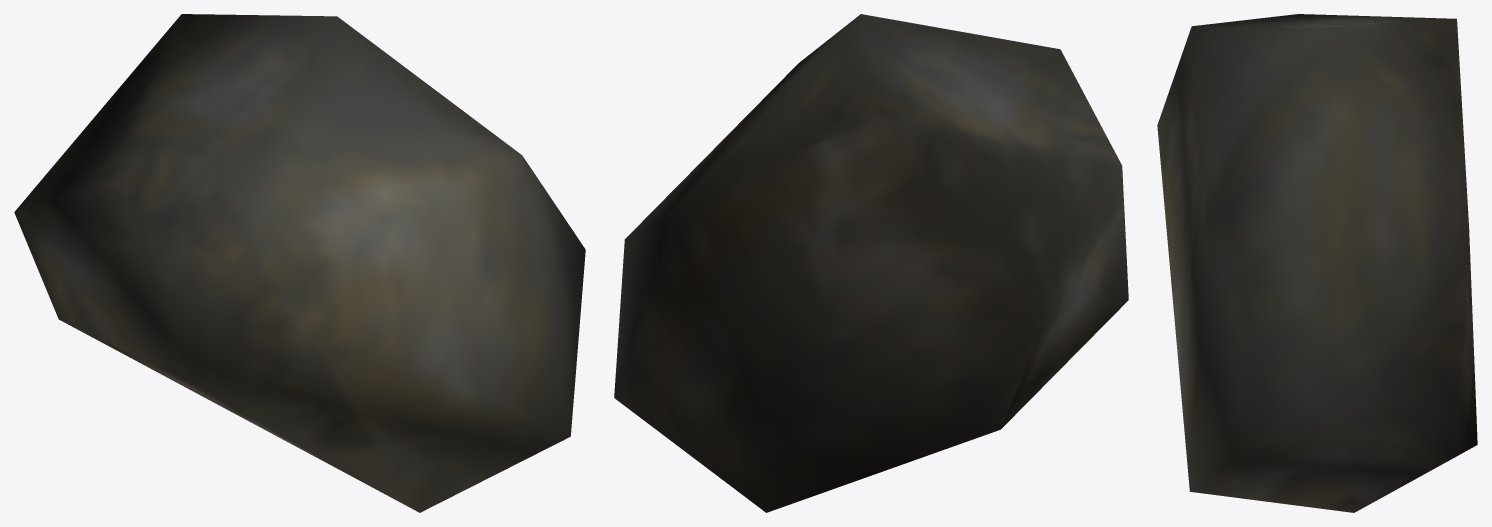
File: rock_detail_03.obj
3 renders of one model, left to right at view 1: azimuth 30°, elevation 25°; view 2: azimuth 150°, elevation 25°; view 3: azimuth 270°, elevation 25°, orthographic. The views are drawn at different scales.
Visible parts, largest first — view 1: rock_detail_03; view 2: rock_detail_03; view 3: rock_detail_03.
Boxes of the visible parts, left/top/right/bottom form: rock_detail_03: left=14, top=14, right=585, bottom=512; rock_detail_03: left=614, top=14, right=1128, bottom=512; rock_detail_03: left=1157, top=14, right=1477, bottom=512.
Bounding box in the file's own units: 1 × 0.8827 × 0.5975.
Materials: 1 (1 with a texture image).
